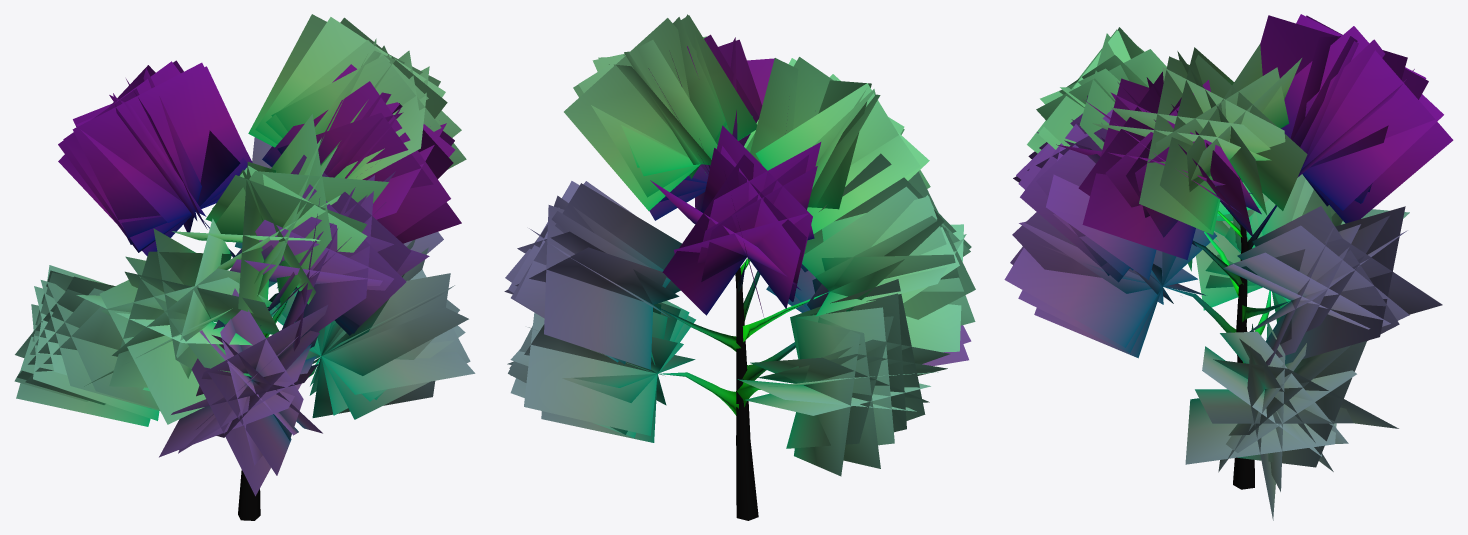
File: URP_P6_Tree_2_LOD_3.fbx
The picture shows the model from 3 angles, left to right: view 1: azimuth 30°, elevation 25°; view 2: azimuth 150°, elevation 25°; view 3: azimuth 270°, elevation 25°; orthographic projection. The views are drawn at different scales.
Parts seen in each view (by area): view 1: Tree_2_LOD_3; view 2: Tree_2_LOD_3; view 3: Tree_2_LOD_3.
Part boxes in pixels (<box>): Tree_2_LOD_3: <box>14,14,475,520</box>; Tree_2_LOD_3: <box>504,14,975,520</box>; Tree_2_LOD_3: <box>1004,14,1453,520</box>.
Size of the model in its own units: 530 by 574 by 480.
